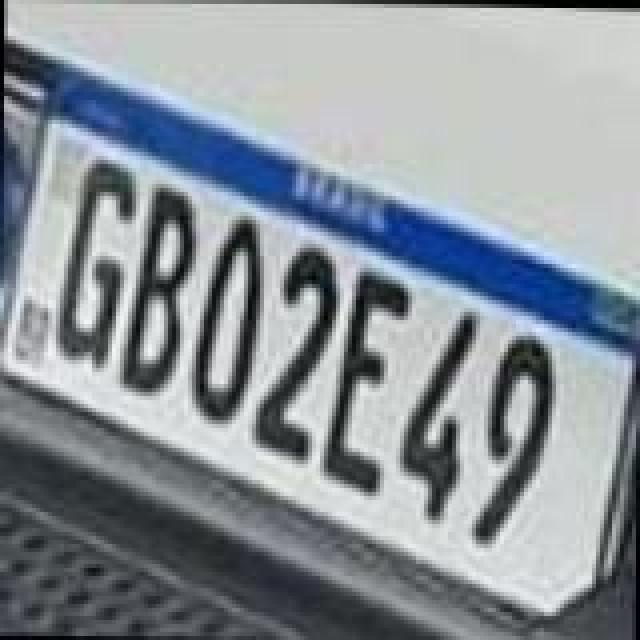2: (254, 248, 346, 468)
4: (396, 304, 480, 520)
9: (470, 330, 558, 546)
B: (116, 178, 204, 394)
E: (324, 264, 420, 492)
G: (52, 158, 140, 370)
O: (192, 212, 272, 428)
